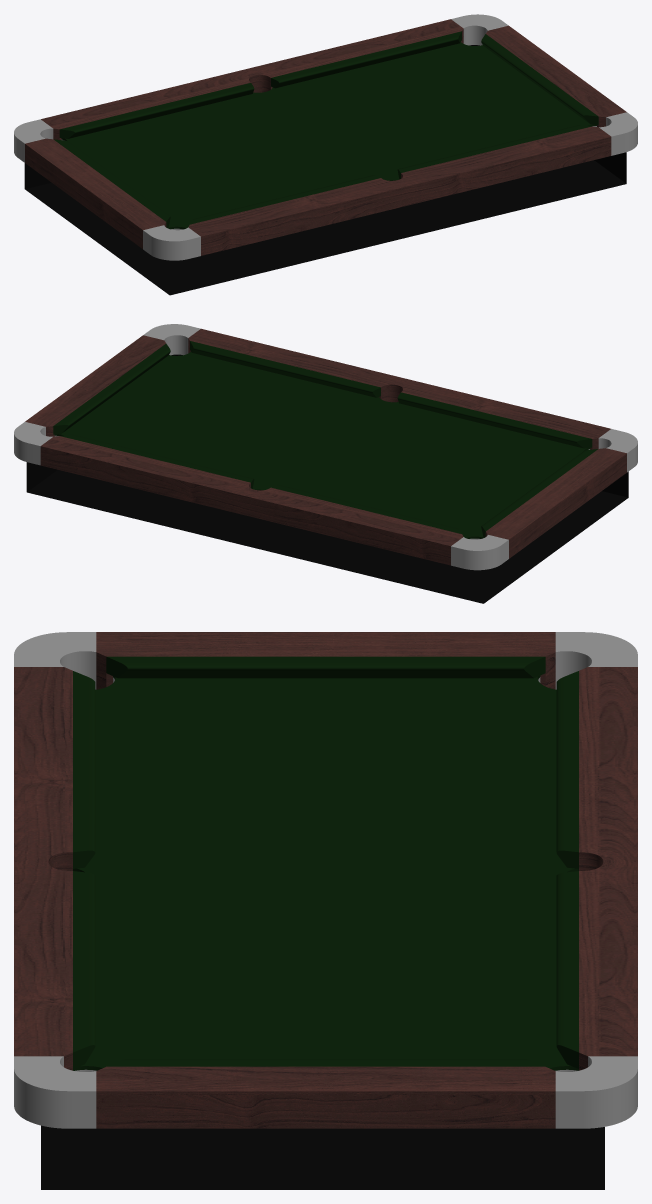
File: BilliardTable.FBX
3 views of the same model, one above another, from view 1: azimuth 30°, elevation 25°; view 2: azimuth 150°, elevation 25°; view 3: azimuth 270°, elevation 25° (orthographic). The views are drawn at different scales.
Parts seen in each view (by area): view 1: TableField, wood, HidedBox, Border, Metall; view 2: TableField, wood, HidedBox, Border, Metall; view 3: TableField, wood, HidedBox, Border, Metall.
Part boxes in pixels (left/top/right/bottom): TableField: left=61, top=42, right=596, bottom=229; wood: left=25, top=19, right=626, bottom=255; HidedBox: left=24, top=45, right=626, bottom=295; Border: left=54, top=31, right=598, bottom=228; Metall: left=14, top=14, right=637, bottom=260; TableField: left=54, top=352, right=590, bottom=538; wood: left=25, top=328, right=626, bottom=565; HidedBox: left=26, top=354, right=628, bottom=603; Border: left=53, top=341, right=597, bottom=537; Metall: left=14, top=324, right=637, bottom=570; TableField: left=73, top=676, right=578, bottom=1070; wood: left=14, top=632, right=637, bottom=1128; HidedBox: left=41, top=689, right=604, bottom=1189; Border: left=73, top=656, right=578, bottom=1068; Metall: left=14, top=632, right=637, bottom=1128.
Size of the model in its own units: 26.25 by 3 by 15.08.
